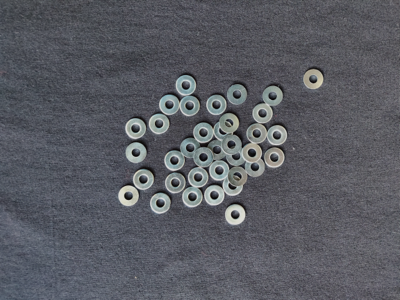circle: (125, 142, 149, 165), (116, 184, 140, 207), (241, 142, 264, 164), (224, 204, 247, 226), (125, 117, 147, 139), (245, 123, 267, 145), (165, 172, 187, 194), (150, 193, 172, 215), (263, 86, 286, 107), (263, 148, 286, 169), (221, 176, 244, 197), (228, 84, 249, 106), (159, 94, 181, 115), (219, 112, 240, 134), (193, 122, 214, 144), (222, 134, 243, 156), (207, 139, 228, 161), (164, 149, 185, 171), (268, 125, 289, 147), (245, 157, 267, 178), (209, 160, 230, 182), (205, 185, 226, 207), (188, 167, 210, 188), (133, 169, 155, 190), (181, 187, 203, 208), (149, 113, 170, 134), (213, 121, 234, 142), (252, 103, 273, 124), (228, 166, 249, 187), (305, 69, 325, 91), (176, 75, 198, 95), (180, 137, 202, 157), (194, 147, 214, 168), (207, 95, 227, 115), (180, 96, 200, 116), (227, 146, 247, 166)
